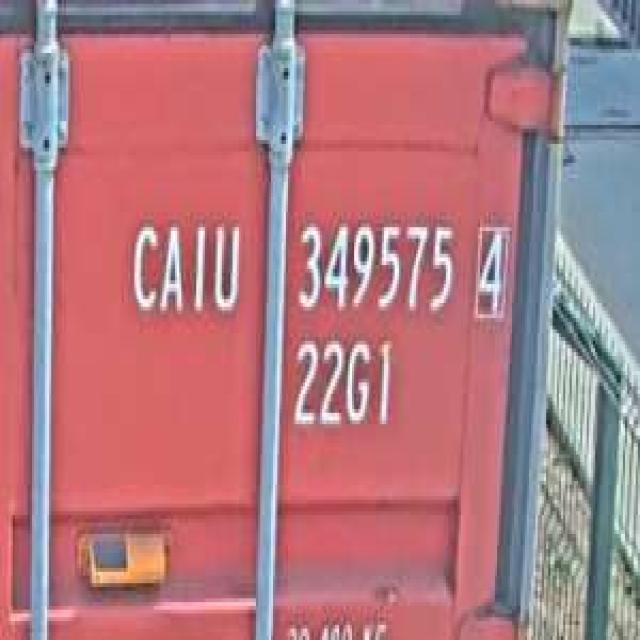dv: (469, 212, 512, 322)
owner: (124, 204, 245, 326)
serial: (290, 204, 459, 326)
size: (288, 330, 395, 440)
